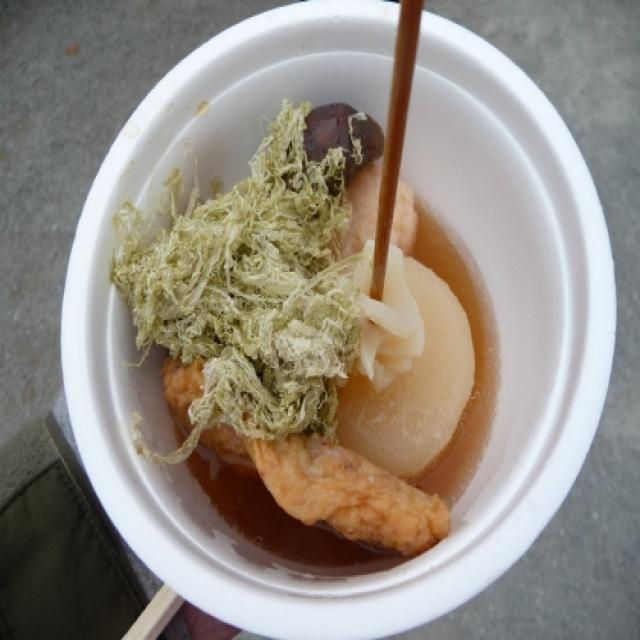汤锅炖物: (115, 92, 480, 558)
